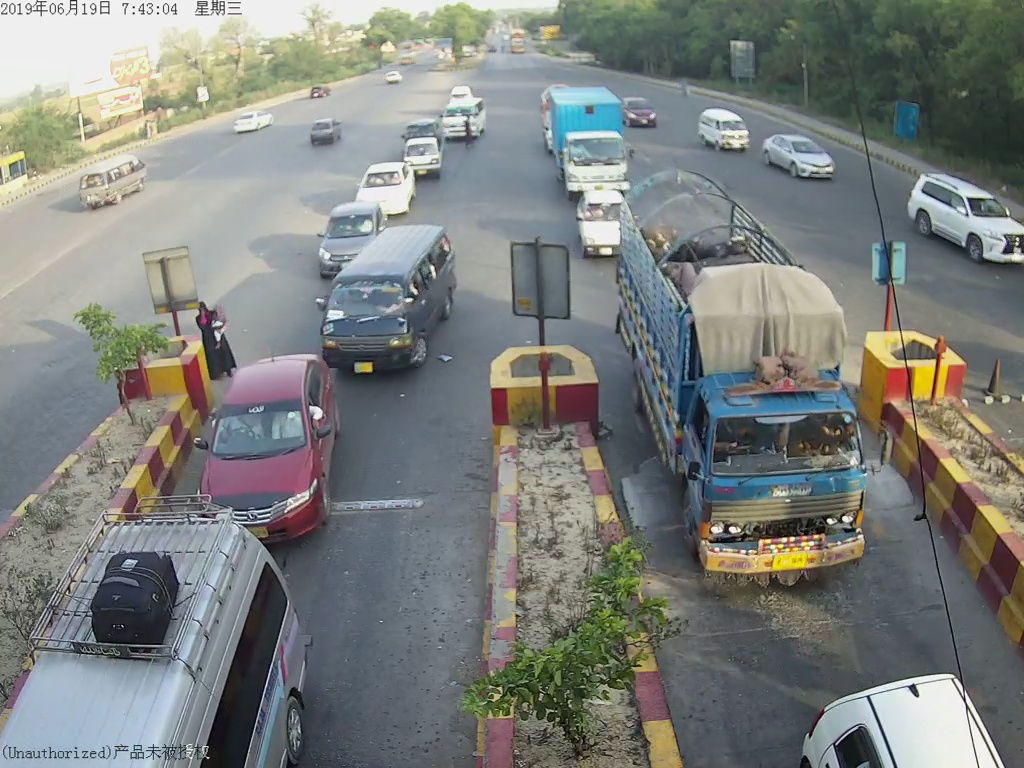Cat-1: (202, 364, 345, 529)
Cat-2: (321, 241, 470, 375)
Cat-4: (602, 168, 900, 588)
